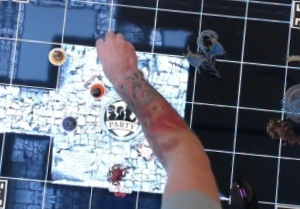orange: (86, 79, 106, 100)
violet: (59, 113, 79, 134)
yellow: (45, 43, 68, 68)
